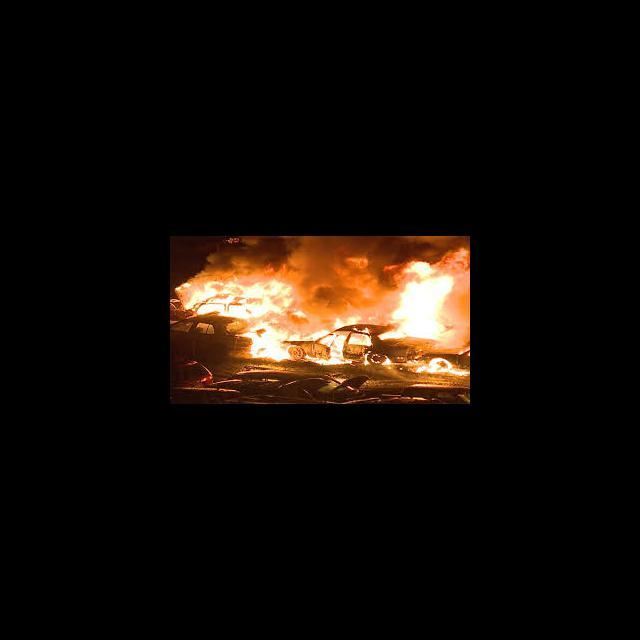Fire: (380, 251, 466, 340), (175, 272, 297, 320), (238, 319, 293, 362), (302, 330, 354, 364), (409, 353, 470, 375), (332, 311, 364, 328), (364, 354, 389, 368), (351, 331, 372, 345), (368, 314, 376, 320)
